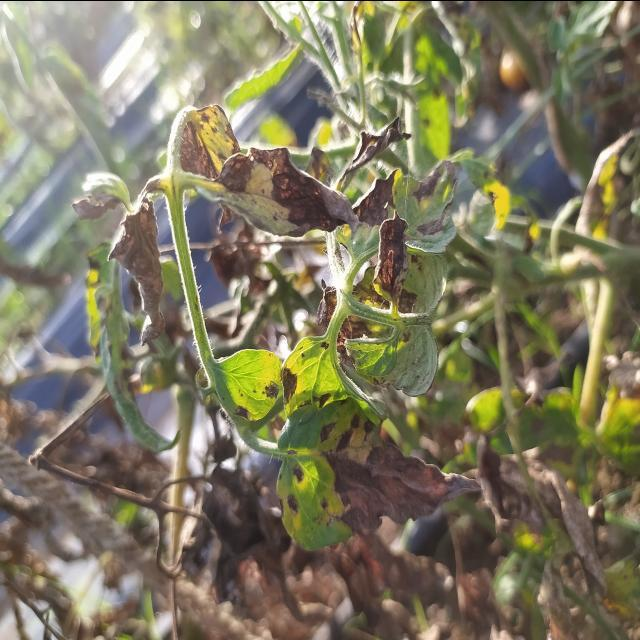Tomato mosaic virus leaf: (273, 390, 487, 558), (215, 142, 357, 248), (228, 331, 352, 425), (370, 212, 414, 312)
